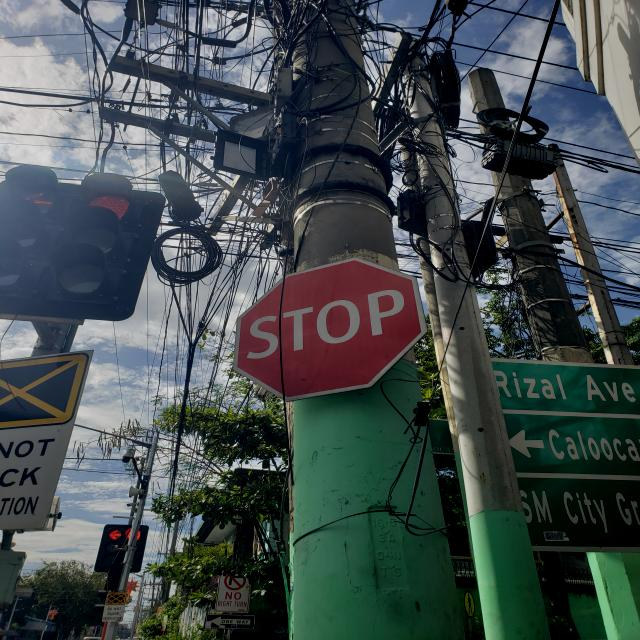stop-sign: (232, 257, 429, 402)
